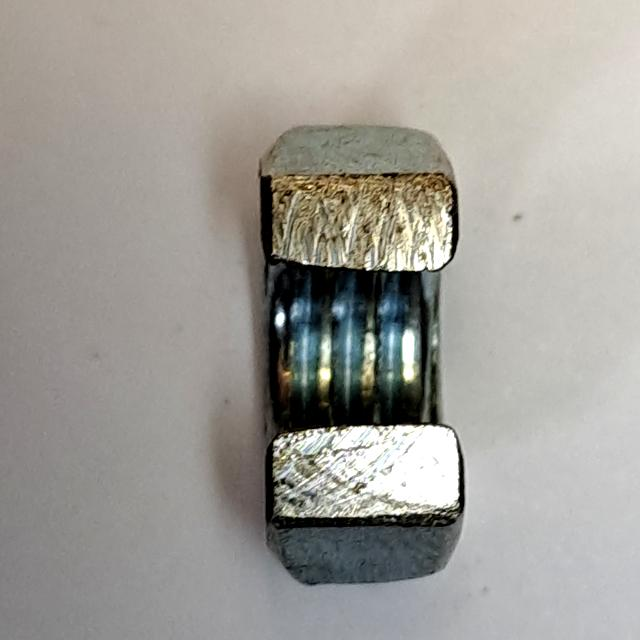Side-Fracture: (248, 111, 479, 596)
